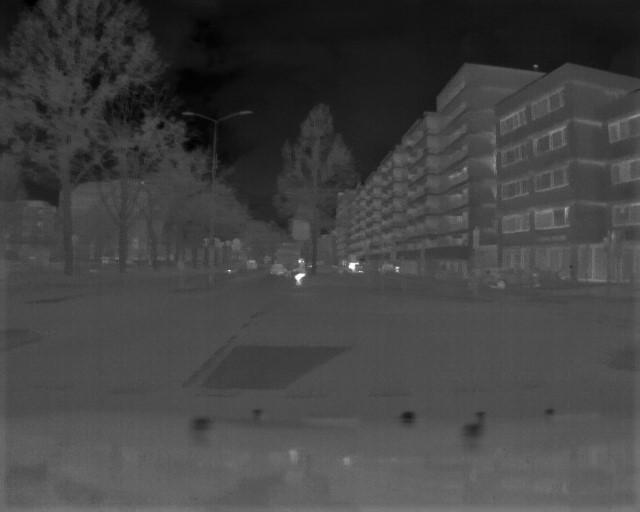car: (264, 260, 287, 280), (244, 256, 259, 273)
person: (293, 259, 308, 293)
